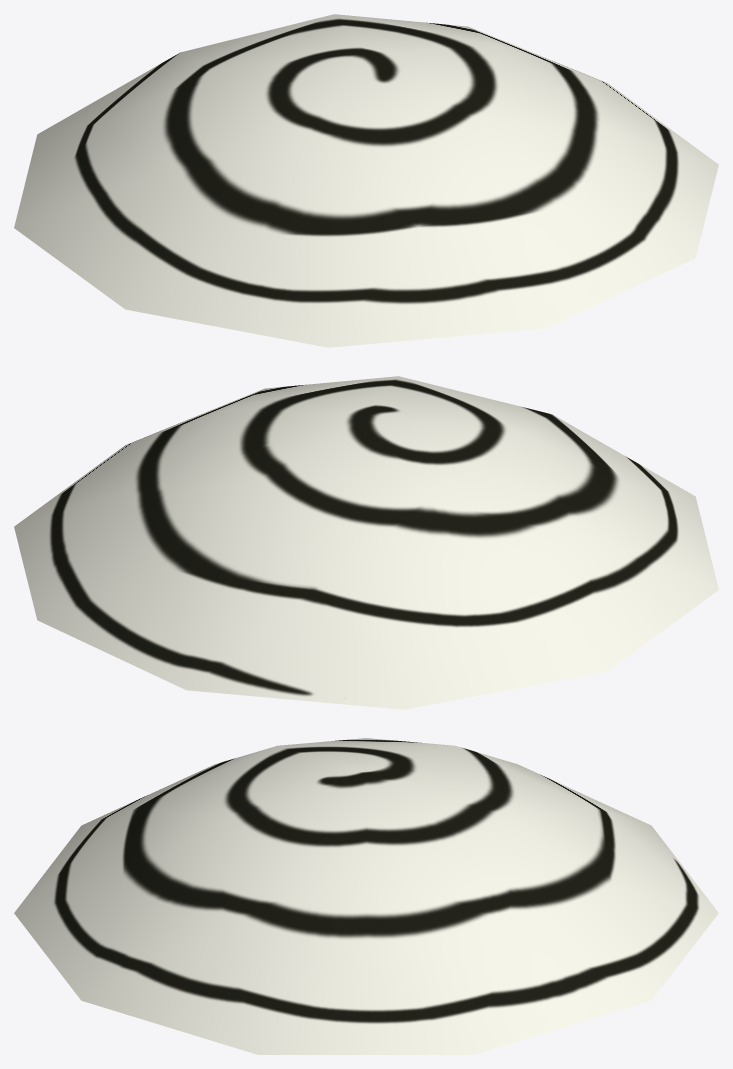
Rendered from Fluff.fbx.
The picture shows the model from 3 angles, top to bottom: view 1: azimuth 30°, elevation 25°; view 2: azimuth 150°, elevation 25°; view 3: azimuth 270°, elevation 25°; orthographic projection. The views are drawn at different scales.
Parts seen in each view (by area): view 1: Fluff; view 2: Fluff; view 3: Fluff.
Boxes of the visible parts, <box> form: Fluff: <box>14,14,718,347</box>; Fluff: <box>14,376,718,709</box>; Fluff: <box>14,738,718,1054</box>.
Bounding box in the file's own units: 190 × 43.57 × 200.
